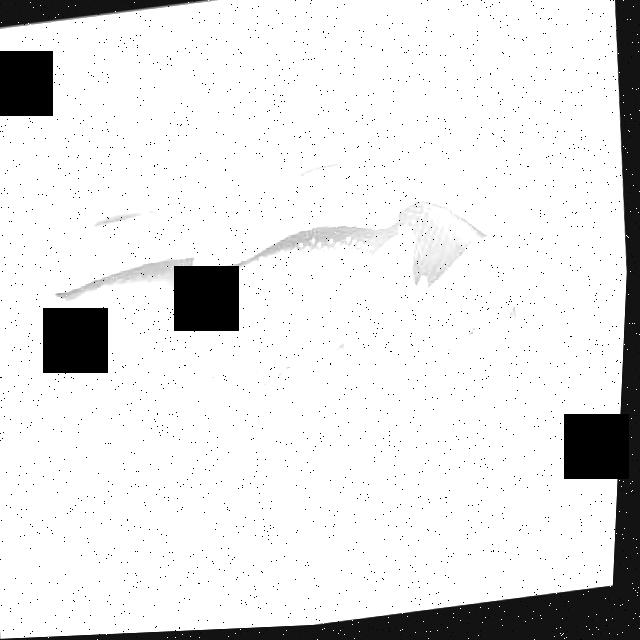shoe: (203, 138, 586, 470), (32, 179, 421, 486)
